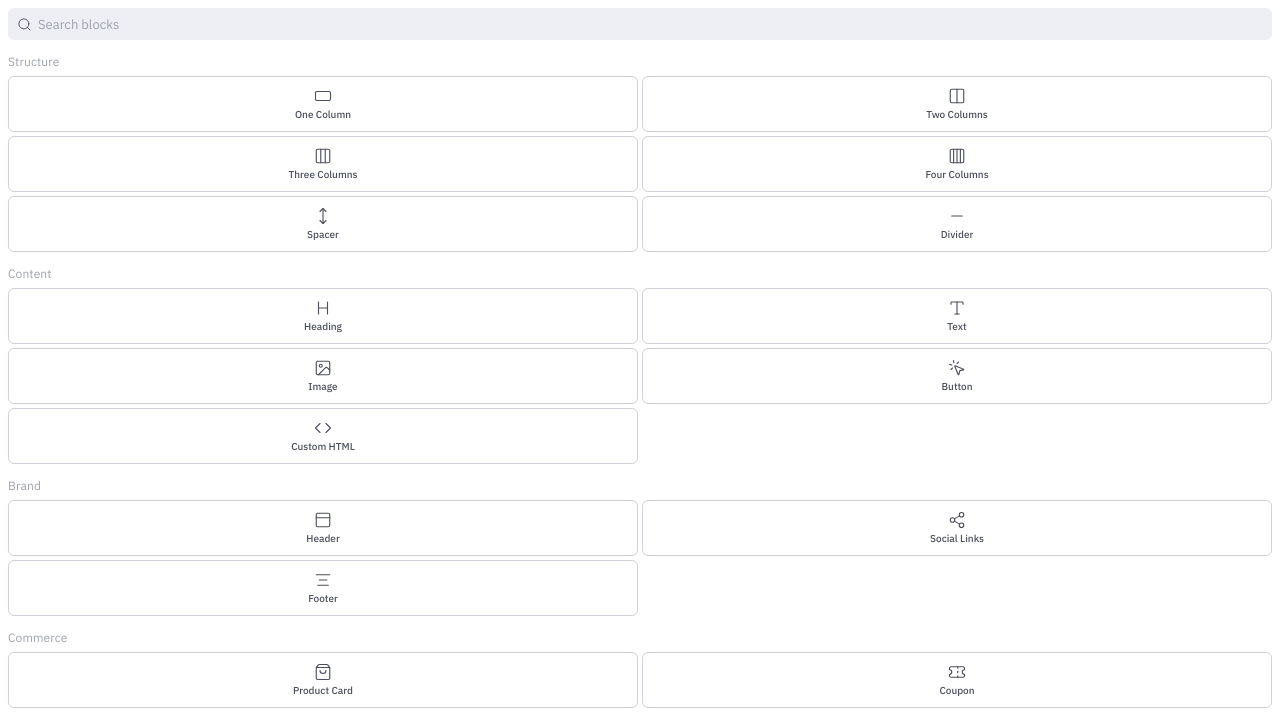
Scenario: the clear button only appears once something is typed
Step 1. Type "a" into the search field labelled "Search blocks" → [652, 24], box [38,11,1267,37]
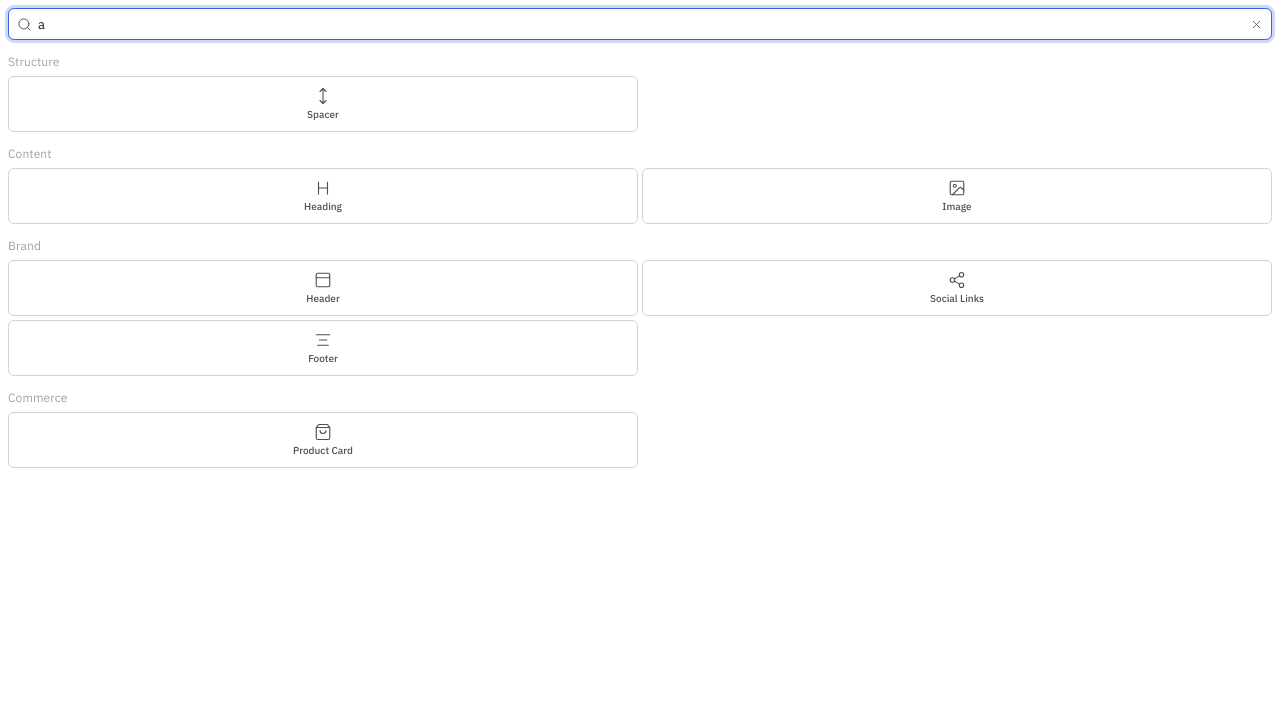
Check: the button named "Clear Search" is shown, box [1245,13,1267,35]
